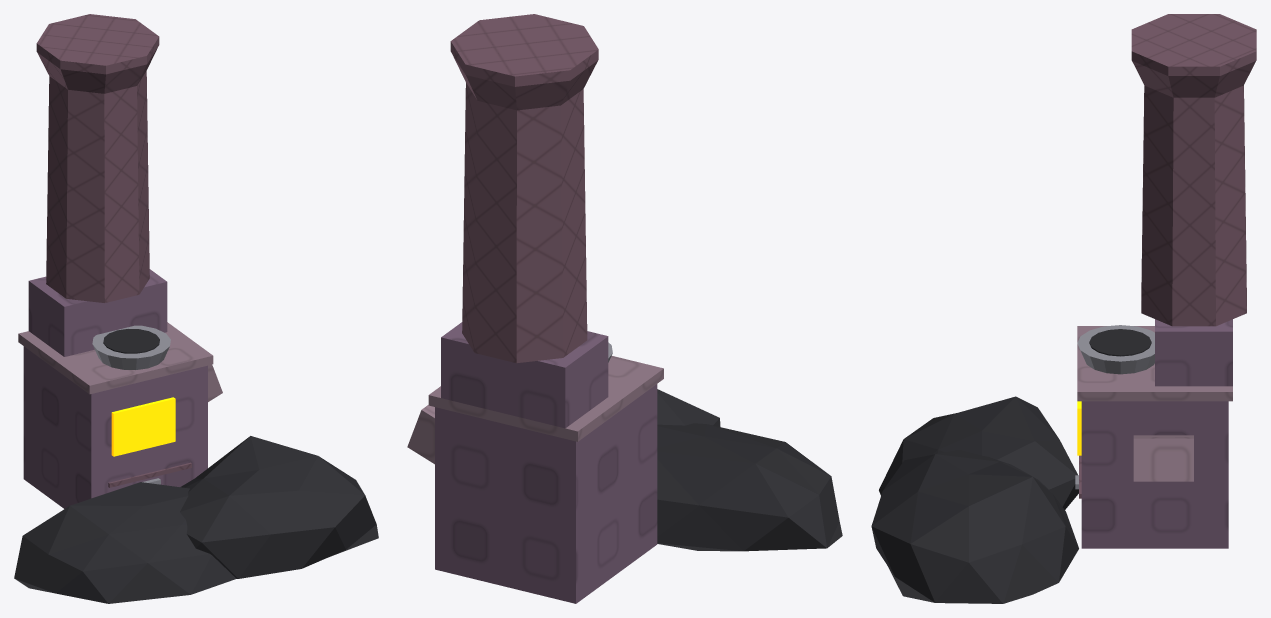
File: Plante_Bio.fbx
The picture shows the model from 3 angles, left to right: view 1: azimuth 30°, elevation 25°; view 2: azimuth 150°, elevation 25°; view 3: azimuth 270°, elevation 25°; orthographic projection. The views are drawn at different scales.
Parts seen in each view (by area): view 1: Plante_Bio; view 2: Plante_Bio; view 3: Plante_Bio.
Boxes of the visible parts, <box> form: Plante_Bio: <box>14,14,378,603</box>; Plante_Bio: <box>407,14,842,603</box>; Plante_Bio: <box>871,14,1256,603</box>.
Size of what is drawn, in the model's own units: 480 by 608 by 445.
Materials: 6 (3 with a texture image).
